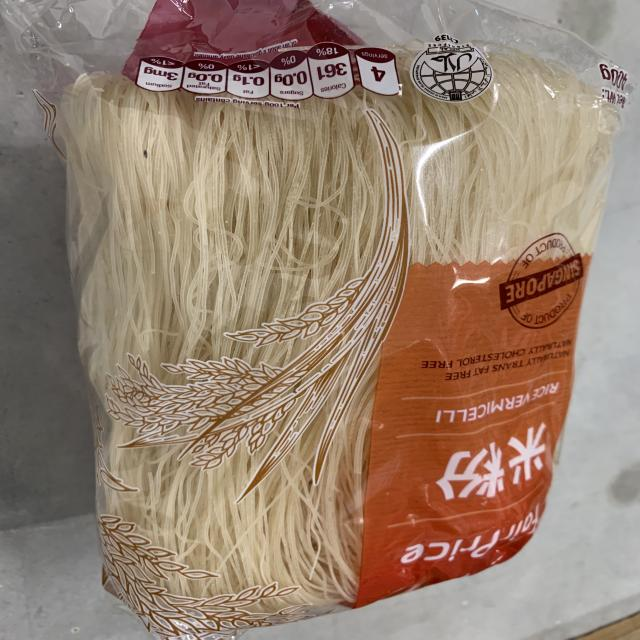object_name: (55, 19, 571, 608)
